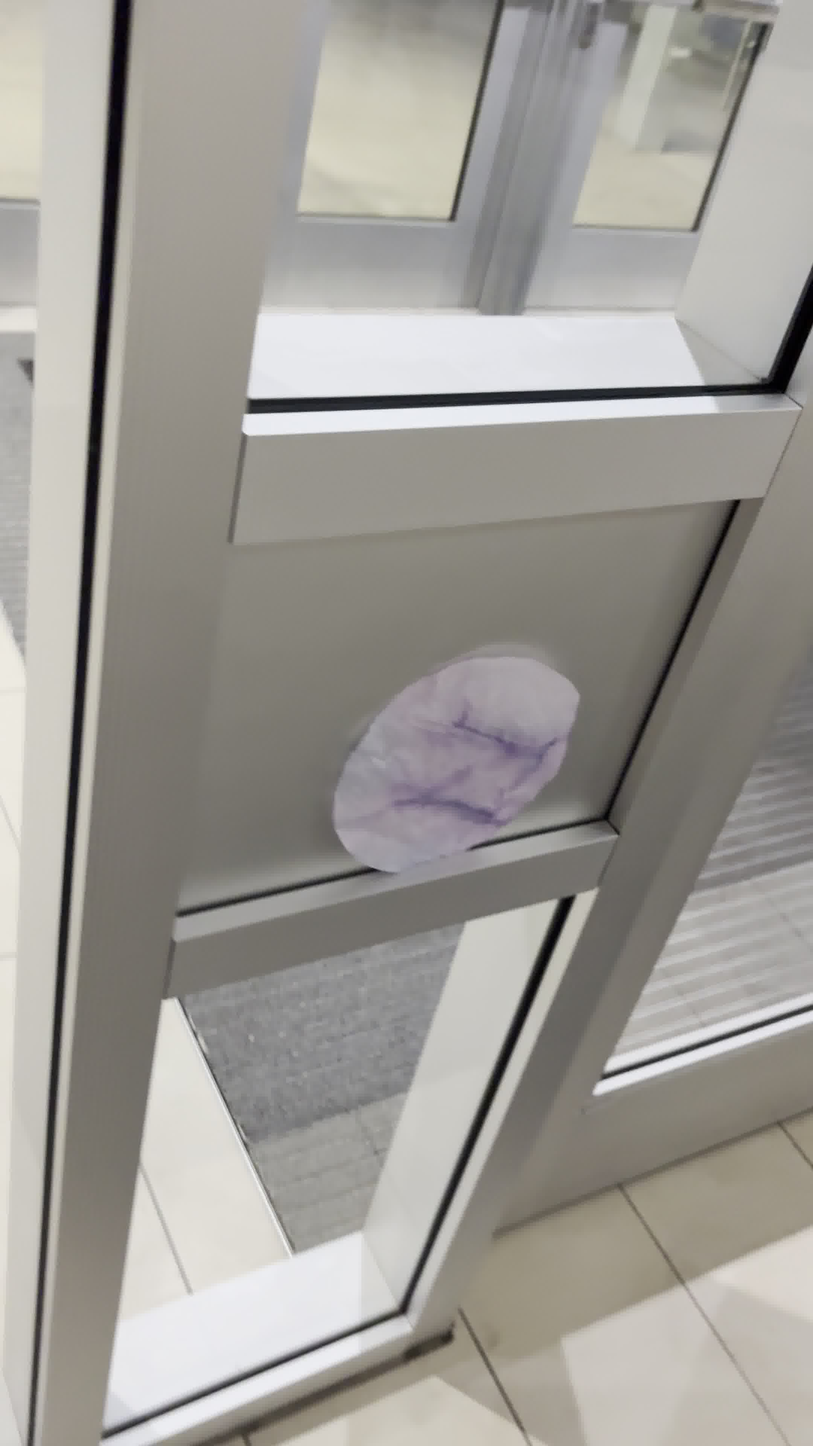Target: (328, 652, 584, 878)
